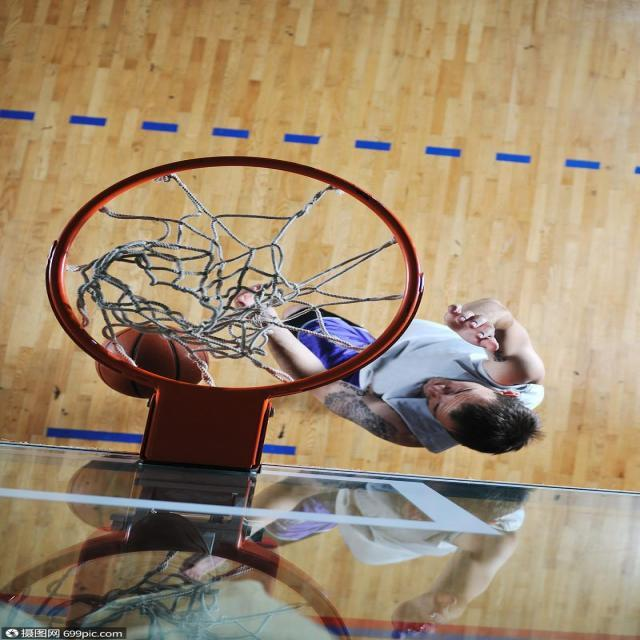rim: (93, 322, 209, 399)
